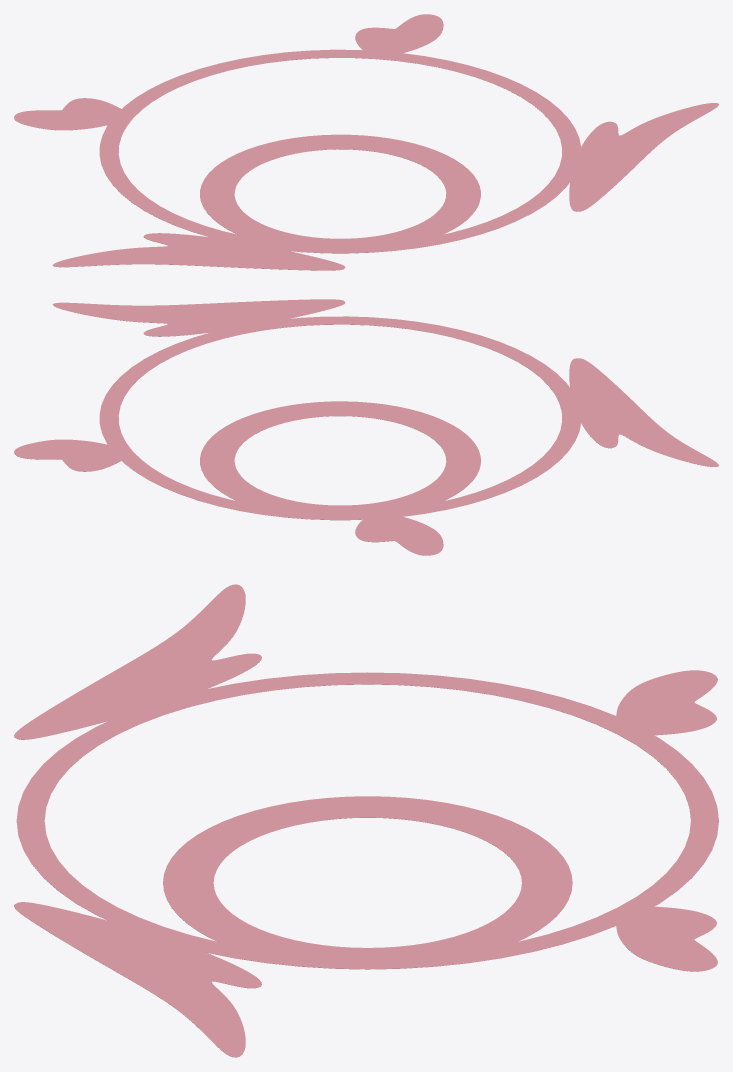
Rendered from Koharu.fbx.
The picture shows the model from 3 angles, top to bottom: view 1: azimuth 30°, elevation 25°; view 2: azimuth 150°, elevation 25°; view 3: azimuth 270°, elevation 25°; orthographic projection. The views are drawn at different scales.
Visible parts, largest first — view 1: 円大, 羽大, 円小, 羽小; view 2: 円大, 羽大, 円小, 羽小; view 3: 円大, 羽大, 円小, 羽小.
Part boxes in pixels (bbox=[...]): 円大: bbox=[99, 49, 580, 253]; 羽大: bbox=[52, 103, 718, 270]; 円小: bbox=[200, 134, 480, 253]; 羽小: bbox=[14, 14, 443, 130]; 円大: bbox=[99, 316, 581, 520]; 羽大: bbox=[52, 299, 718, 466]; 円小: bbox=[200, 401, 480, 520]; 羽小: bbox=[14, 439, 443, 555]; 円大: bbox=[16, 672, 718, 969]; 羽大: bbox=[14, 584, 261, 1057]; 円小: bbox=[163, 796, 572, 969]; 羽小: bbox=[616, 670, 717, 971].
Bounding box in the file's own units: 574 × 35.1 × 361.
